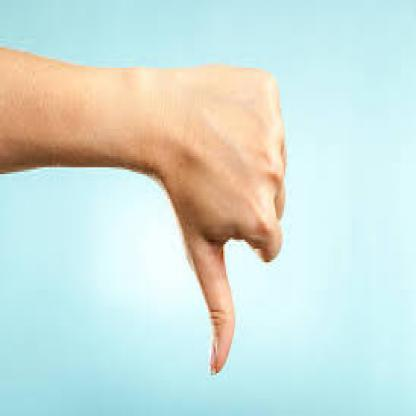thumb_down: (158, 58, 288, 380)
